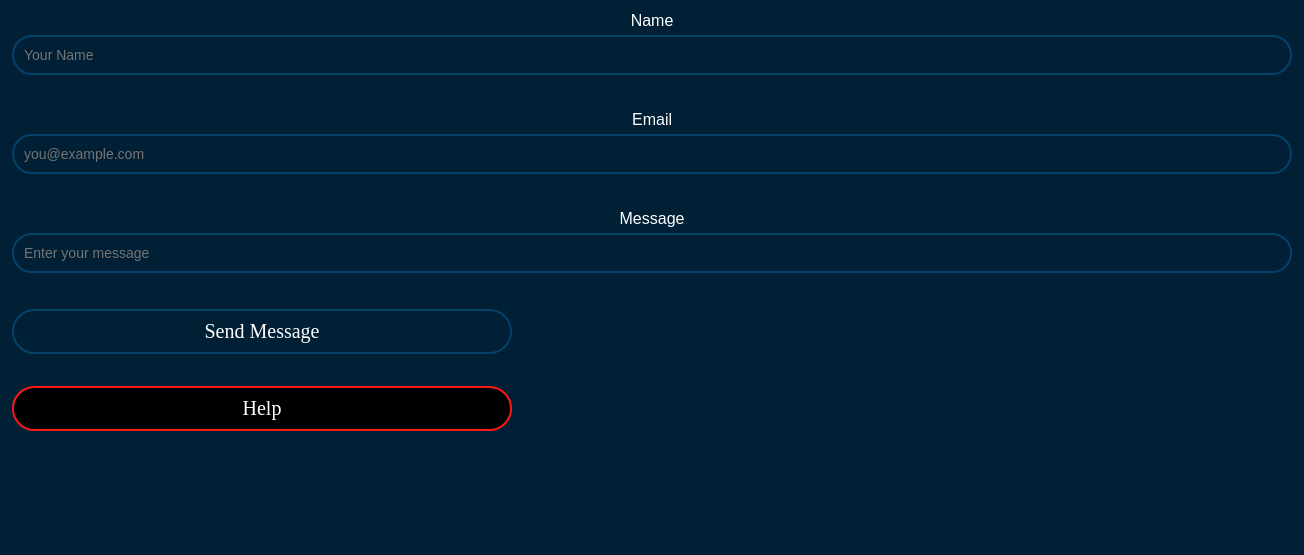
ContactForm › shows error modal when submission fails
The image size is (1304, 555).
In the field labelled "Name": (652, 55) [12,35,1292,75], type "Jane"
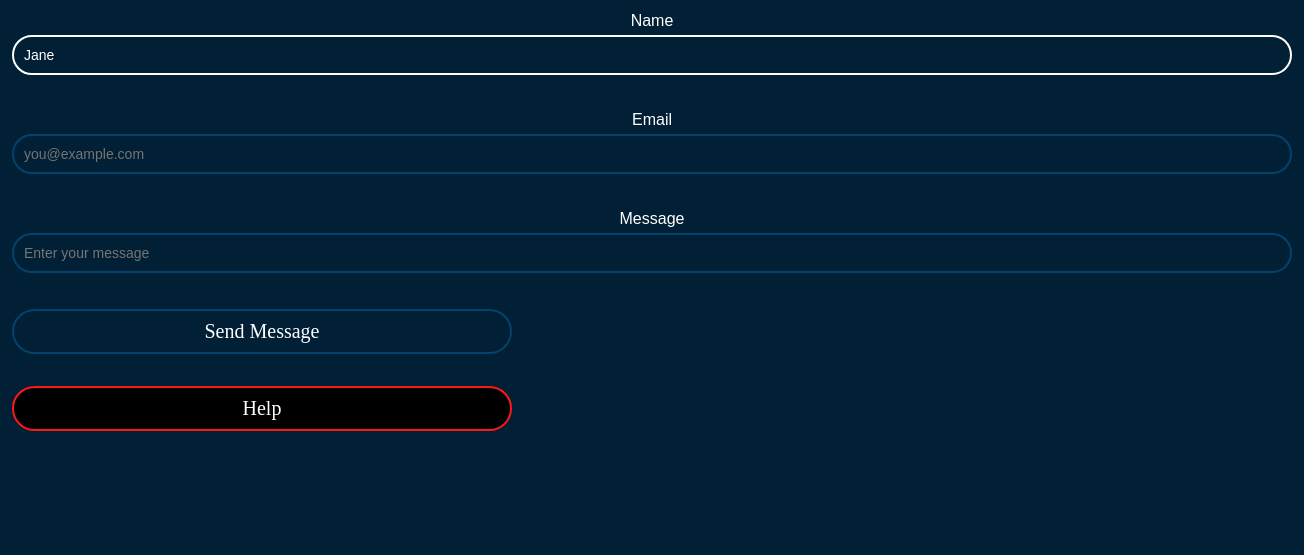
In the field labelled "Email": (652, 154) [12,134,1292,174], type "jane@example.com"
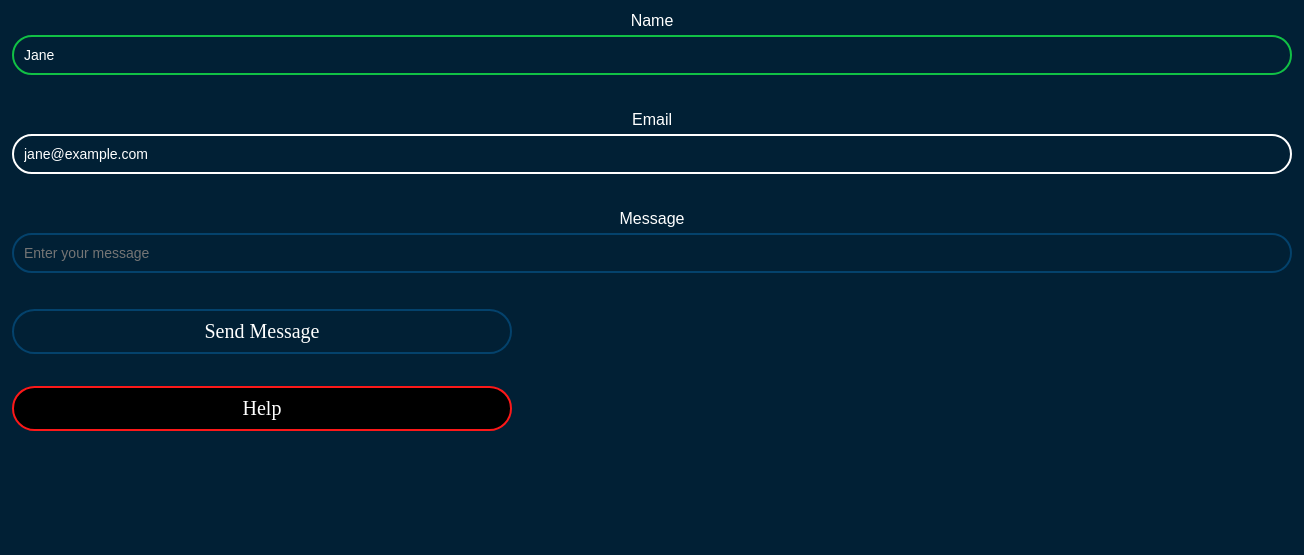
In the field labelled "Message": (652, 253) [12,233,1292,273], type "Hello world"
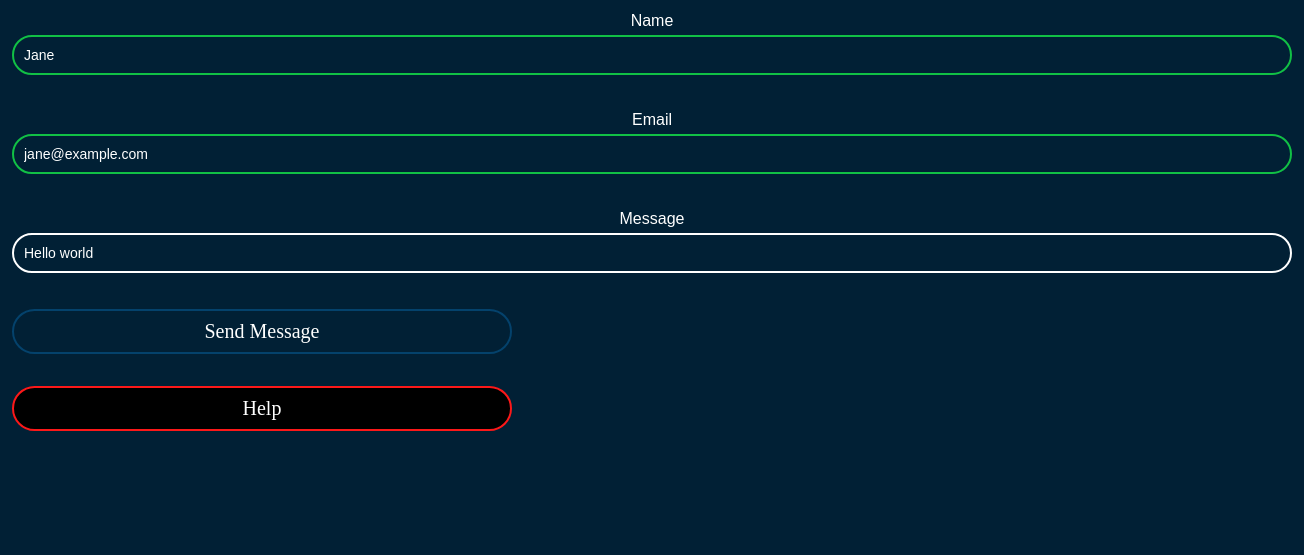
Click the button "Send Message": (262, 332) [12,309,512,354]
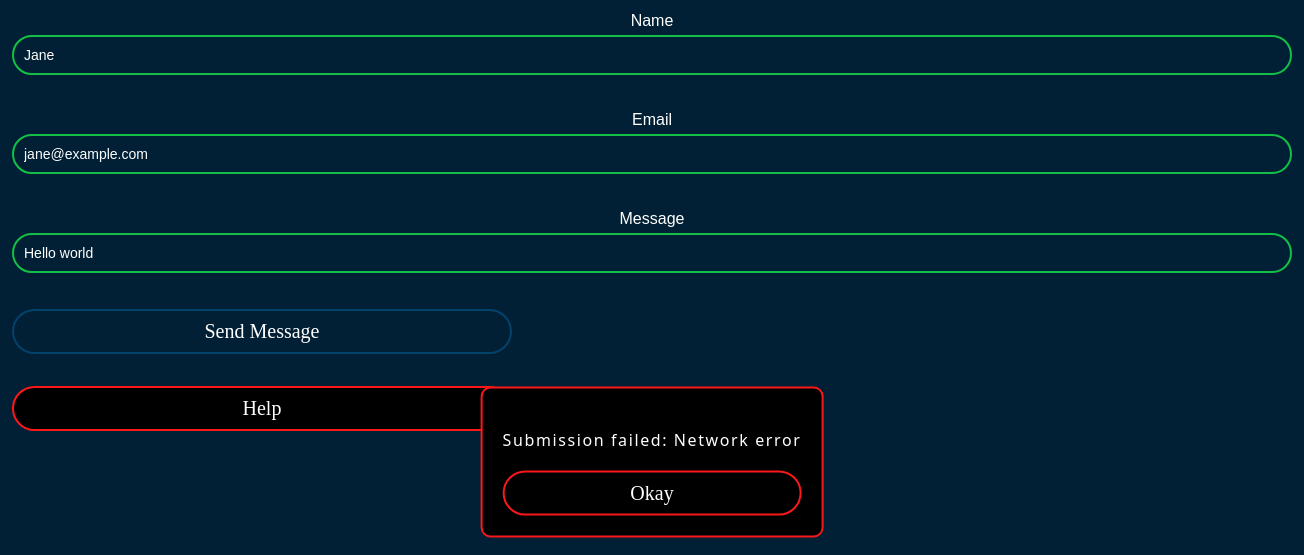
Now the text "Submission failed: Network error" is shown, box [503,428,801,450]
